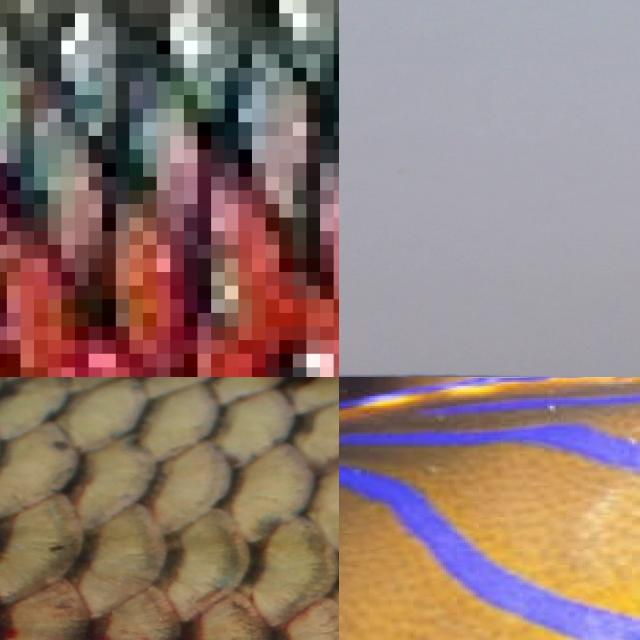fish: (0, 0, 339, 377), (0, 377, 339, 640), (339, 209, 640, 377)
